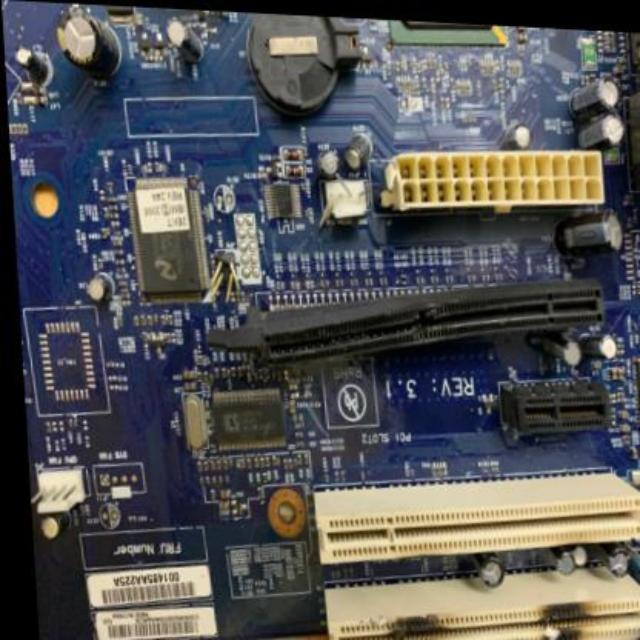PCB: (5, 0, 640, 640)
